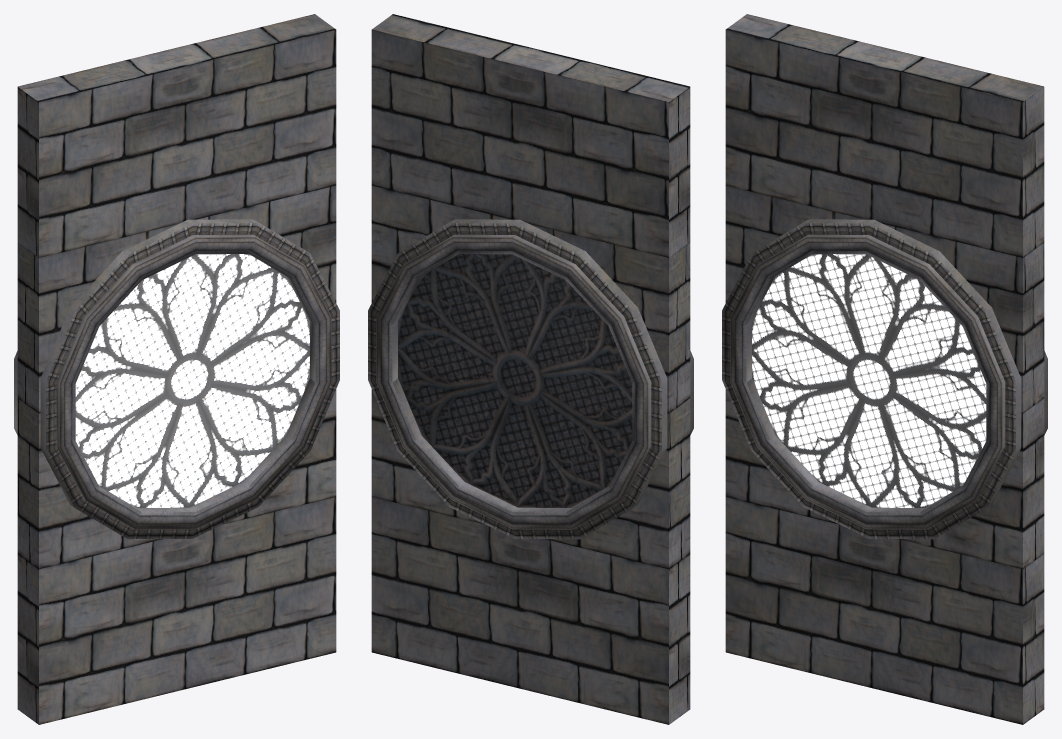
Rendered from wall_rose_window_01.glb.
The picture shows the model from 3 angles, left to right: view 1: azimuth 30°, elevation 25°; view 2: azimuth 150°, elevation 25°; view 3: azimuth 330°, elevation 25°; orthographic projection.
Parts seen in each view (by area): view 1: wall_rose_window_01; view 2: wall_rose_window_01; view 3: wall_rose_window_01.
Boxes of the visible parts, bbox=[...] form: wall_rose_window_01: bbox=[14, 14, 339, 724]; wall_rose_window_01: bbox=[368, 14, 693, 724]; wall_rose_window_01: bbox=[722, 14, 1047, 724].
Size of the model in its own units: 8 by 16 by 1.74.
2 materials, 2 textured.
